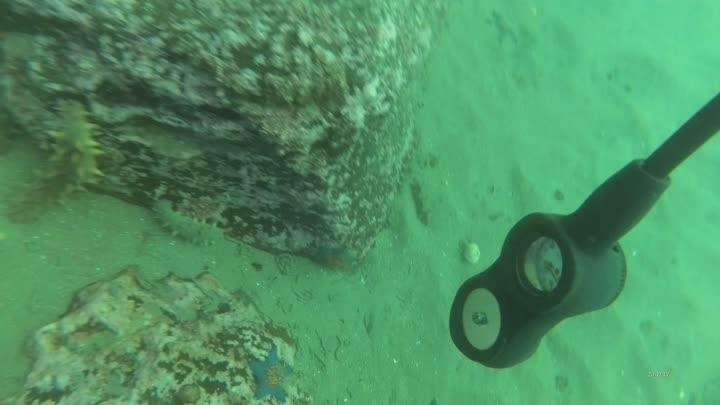holothurian: (6, 96, 108, 227), (147, 195, 233, 250), (407, 175, 437, 230)
starfish: (244, 342, 300, 403), (307, 238, 362, 277), (484, 7, 531, 52)
